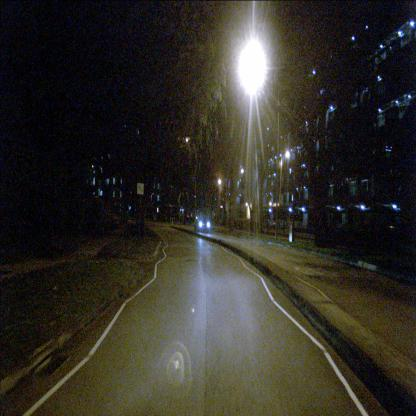vehicle-car: (194, 214, 211, 233)
